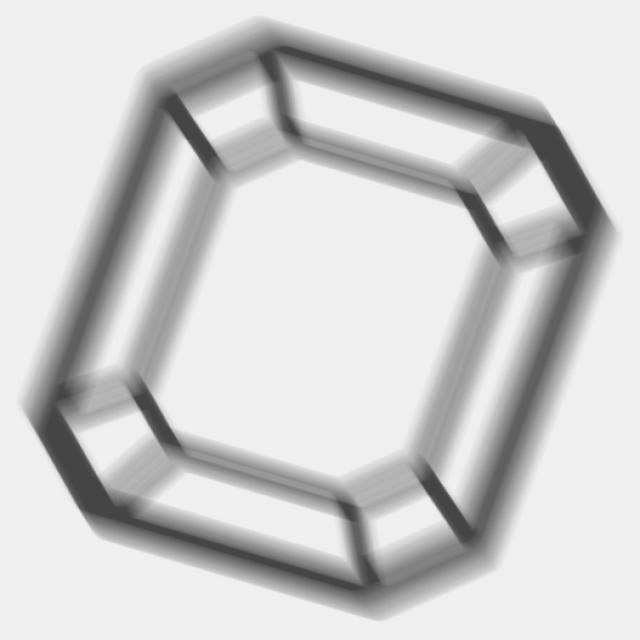emerald: (14, 7, 628, 631)
